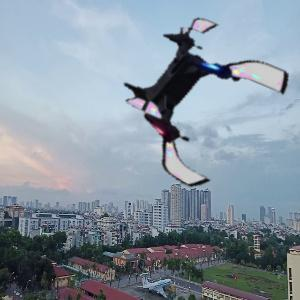drone: (114, 20, 283, 189)
